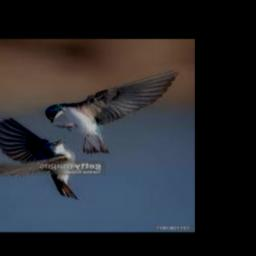Swallow: (45, 69, 180, 154), (0, 118, 78, 198)
